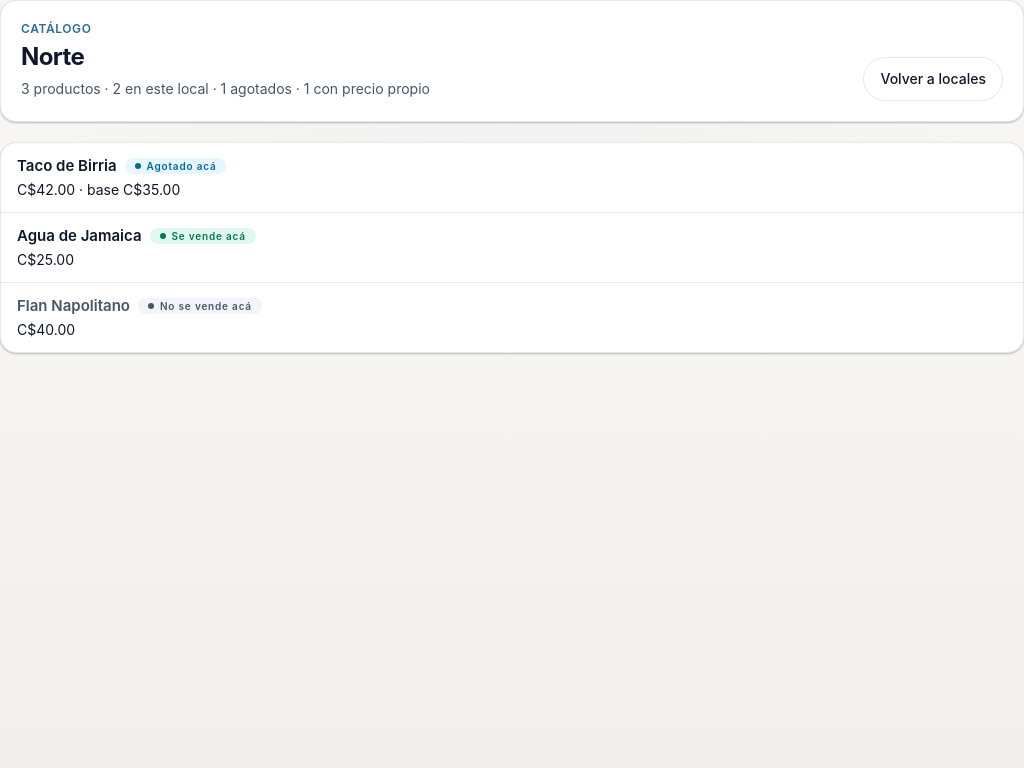
Test: LocationCatalogPage › muestra el error del servidor en el campo que corresponde
The width and height of the screenshot is (1024, 768).
Click the button with aria-label "Editar Agua de Jamaica" at (79, 236), box 1,212 -> 1023,282
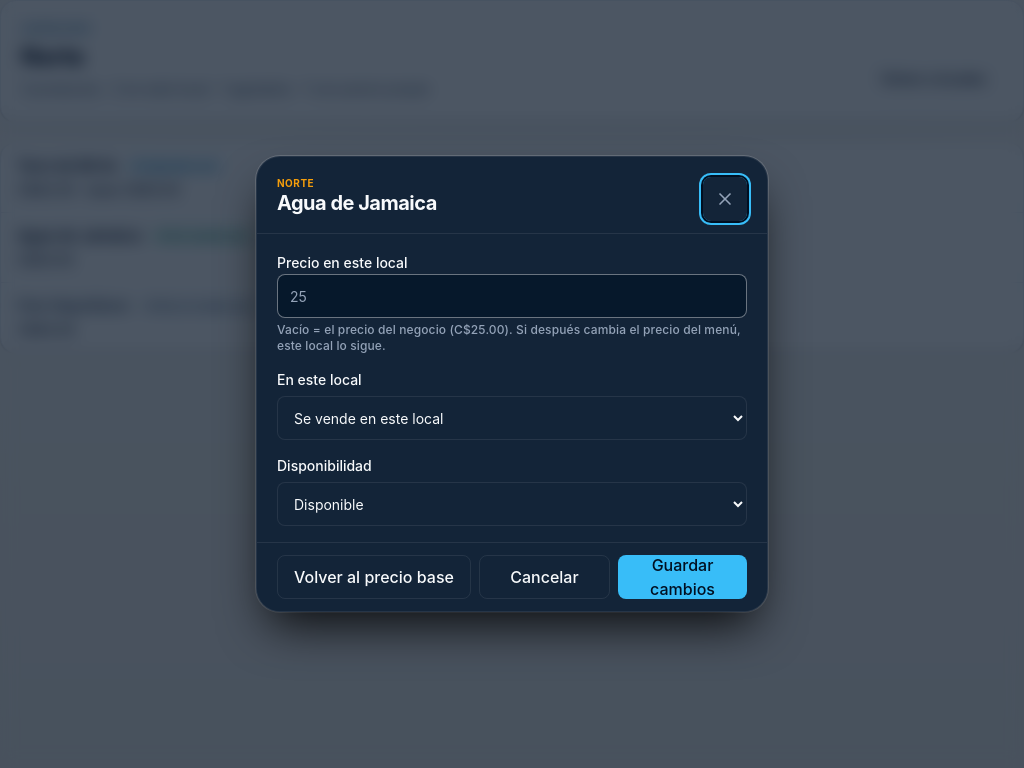
Type "-5" into the number field labelled "Precio en este local" at (512, 296), box 277,274 -> 747,318
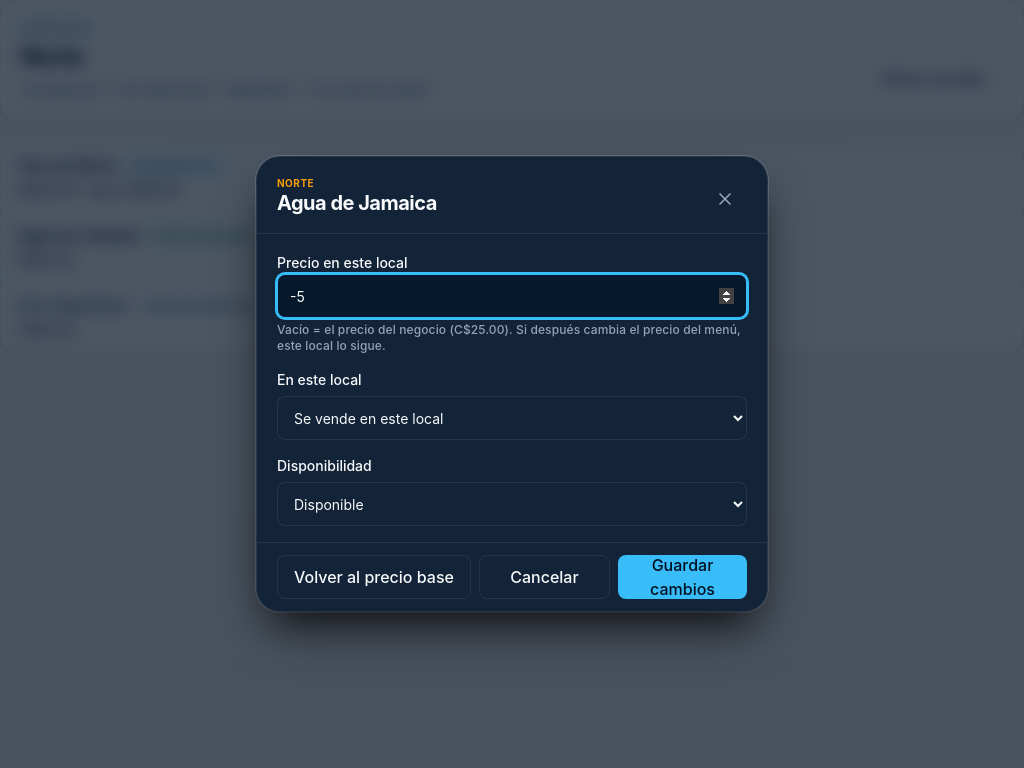
Click the button "Guardar cambios" at (682, 577), box 618,555 -> 747,599
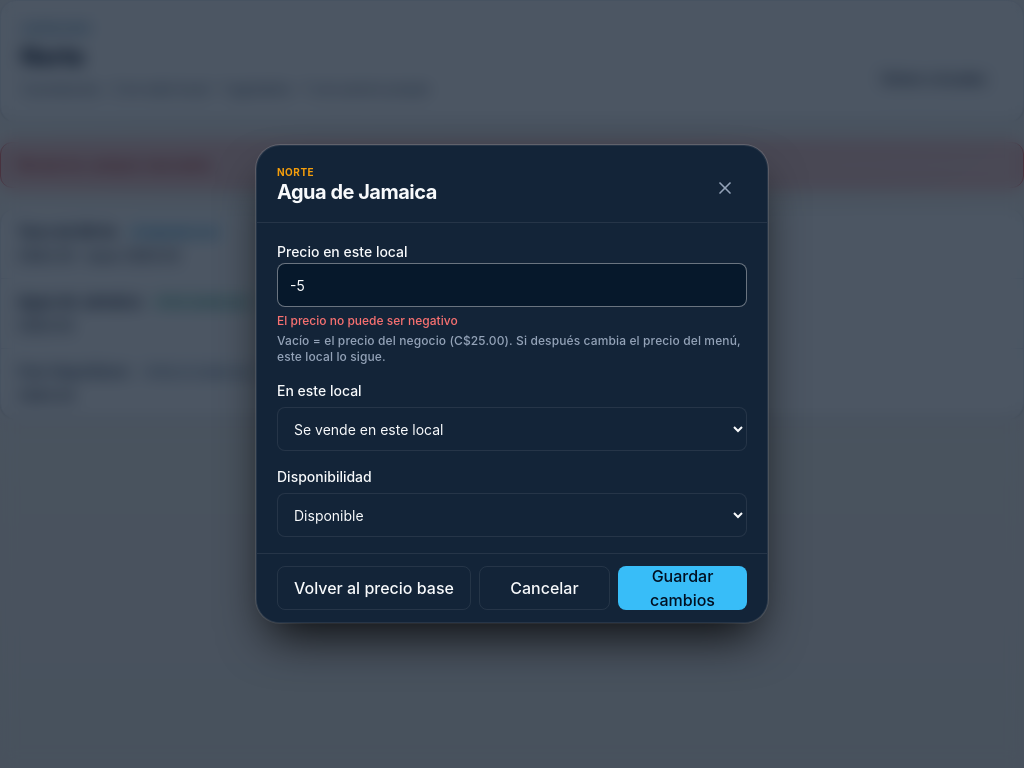
expect the text "Revisá los campos marcados." is shown: met, box 0,142 -> 1023,188
expect the text "El precio no puede ser negativo" is shown: met, box 277,313 -> 458,328
